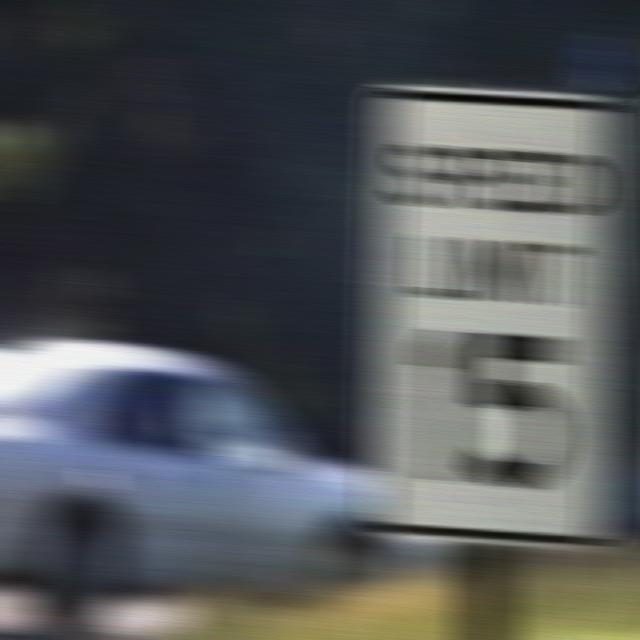speedLimit15: (363, 67, 616, 552)
